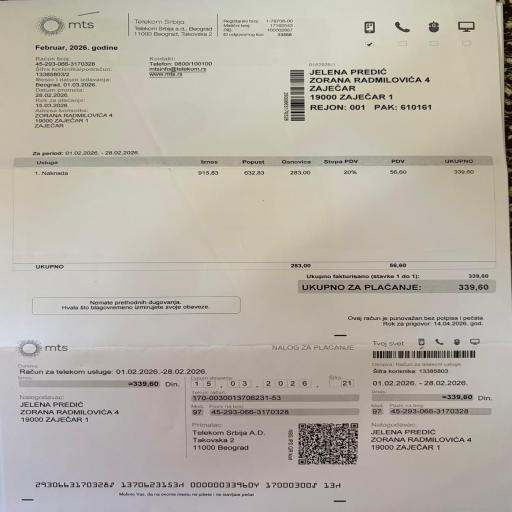mts: (30, 156, 486, 180)
mts_iznos: (300, 282, 499, 296)
mts_uplatnica: (368, 378, 502, 420)
